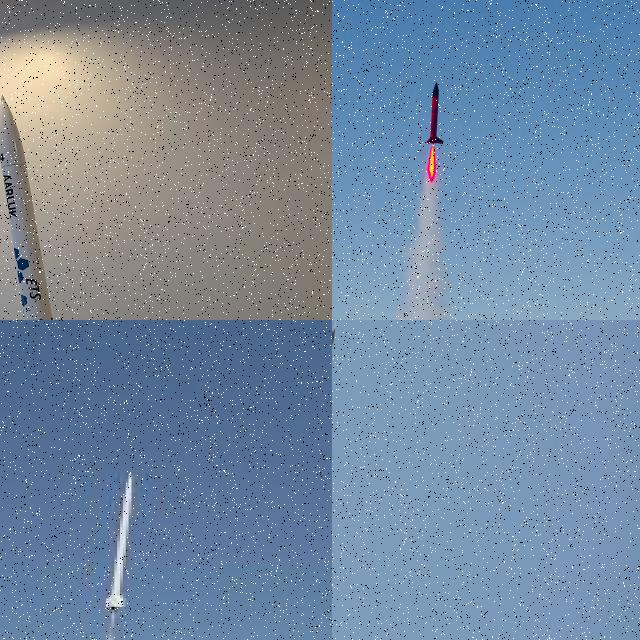Rocket: (0, 95, 54, 320), (103, 464, 136, 618), (426, 82, 444, 144), (332, 326, 336, 349)
